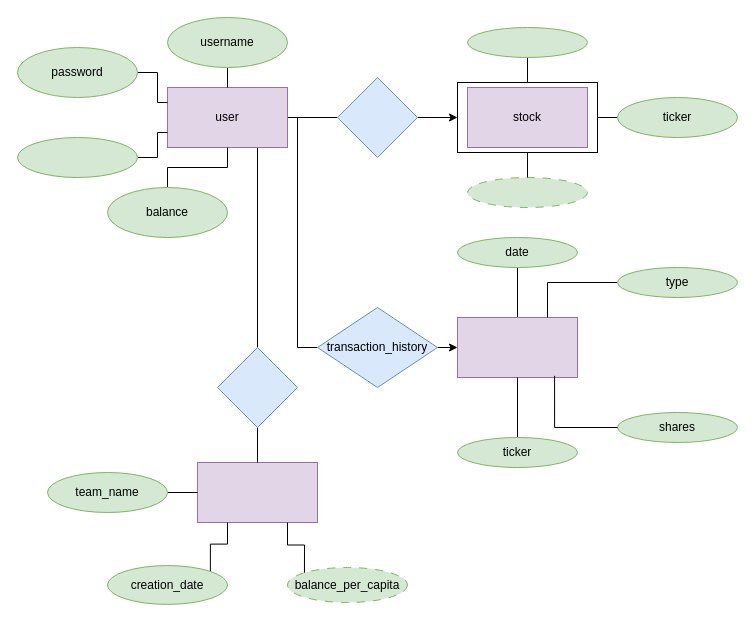
This 755x622 diagram has some shape labels left out. The centre of each missing label's shape, as x and y in pixels:
"amount" goes at [527,42].
"email" goes at [77,157].
"members" goes at [257,387].
"owns" goes at [377,117].
"Team" goes at [257,492].
"transaction" goes at [517,347].
"value" goes at [527,192].
